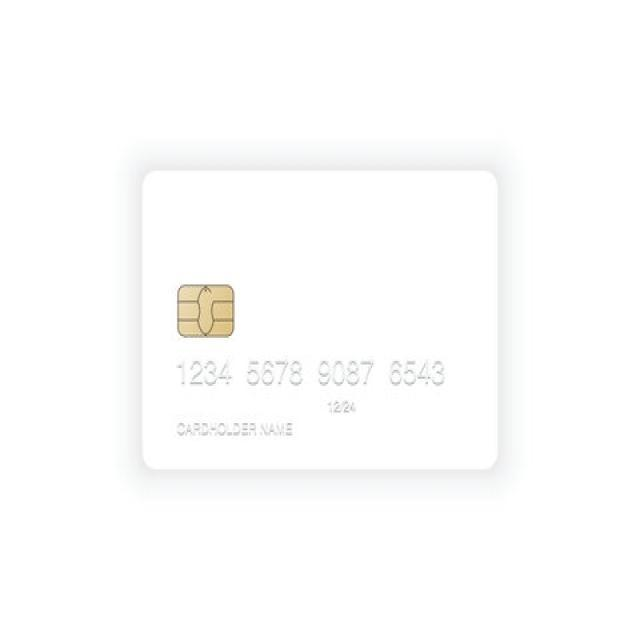payment_card: (139, 167, 500, 471)
